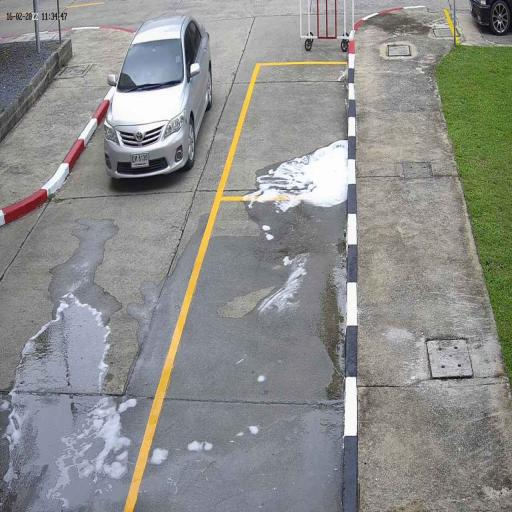car: (103, 13, 214, 183)
